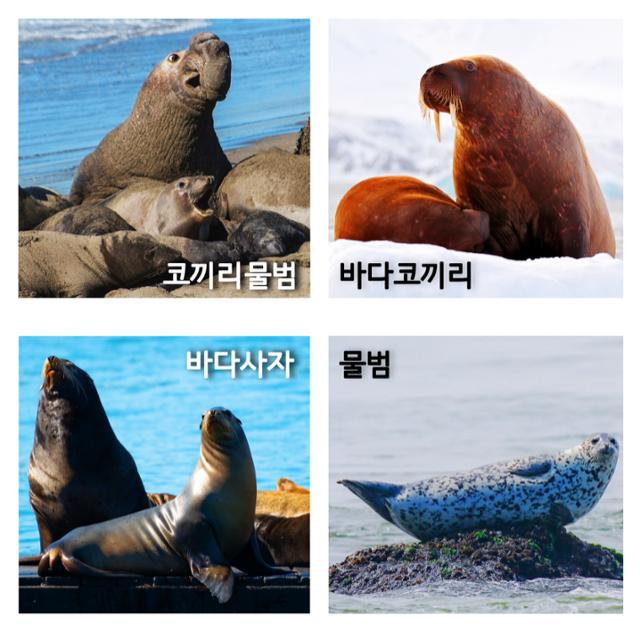walrus: (394, 39, 619, 270), (83, 23, 256, 205)
